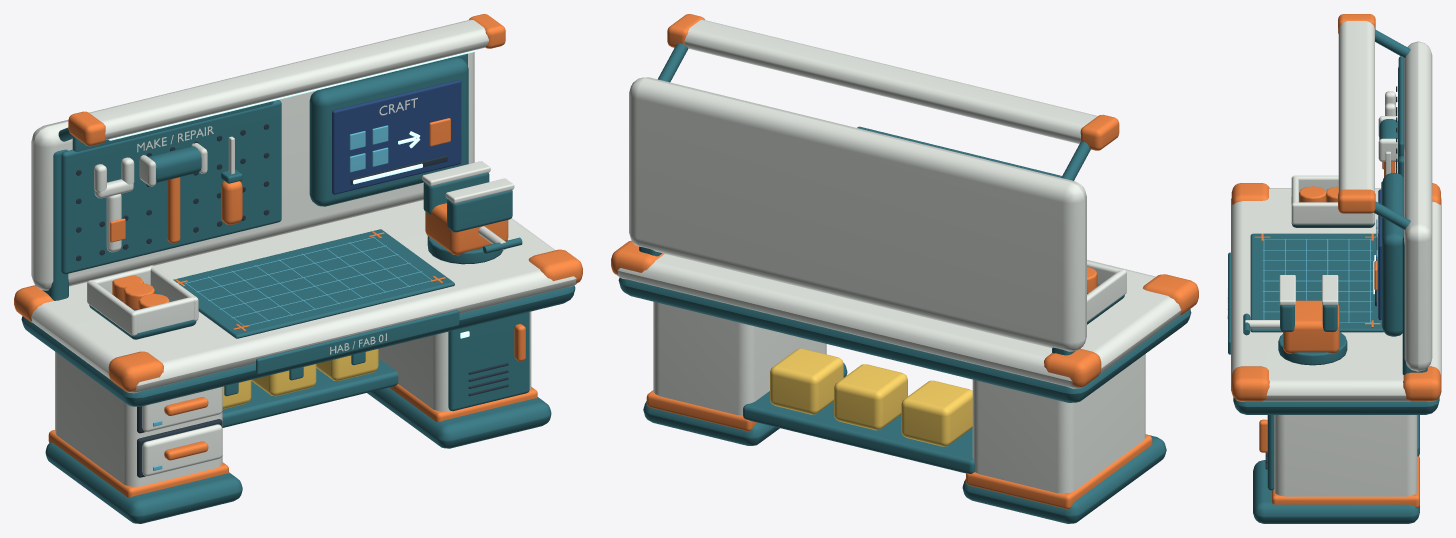
File: Workbench.glb
The picture shows the model from 3 angles, left to right: view 1: azimuth 30°, elevation 25°; view 2: azimuth 150°, elevation 25°; view 3: azimuth 270°, elevation 25°; orthographic projection. The views are drawn at different scales.
Visible parts, largest first — view 1: Station body • geometry, Recipe terminal • geometry, Tool • bench vise • geometry, Supply • component bin • geometry, Drawer 01 • geometry, Tool • mallet • geometry, Drawer 02 • geometry, Tool • spanner • geometry, Tool • driver • geometry; view 2: Station body • geometry, Supply • component bin • geometry; view 3: Station body • geometry, Tool • bench vise • geometry, Recipe terminal • geometry, Supply • component bin • geometry, Tool • mallet • geometry, Tool • spanner • geometry.
Boxes of the visible parts, x1,y1,x2,y2 form: Station body • geometry: [14, 14, 582, 523]; Recipe terminal • geometry: [309, 57, 468, 206]; Tool • bench vise • geometry: [422, 161, 522, 264]; Supply • component bin • geometry: [87, 265, 198, 339]; Drawer 01 • geometry: [137, 419, 222, 477]; Tool • mallet • geometry: [139, 143, 207, 243]; Drawer 02 • geometry: [137, 387, 222, 433]; Tool • spanner • geometry: [94, 157, 134, 252]; Tool • driver • geometry: [221, 136, 242, 224]; Station body • geometry: [611, 14, 1198, 523]; Supply • component bin • geometry: [1087, 260, 1126, 324]; Station body • geometry: [1227, 14, 1441, 523]; Tool • bench vise • geometry: [1243, 275, 1347, 365]; Recipe terminal • geometry: [1373, 173, 1403, 336]; Supply • component bin • geometry: [1291, 175, 1374, 227]; Tool • mallet • geometry: [1378, 116, 1397, 176]; Tool • spanner • geometry: [1382, 91, 1395, 172].
Bounding box in the file's own units: 3.04 × 2.32 × 1.36.
